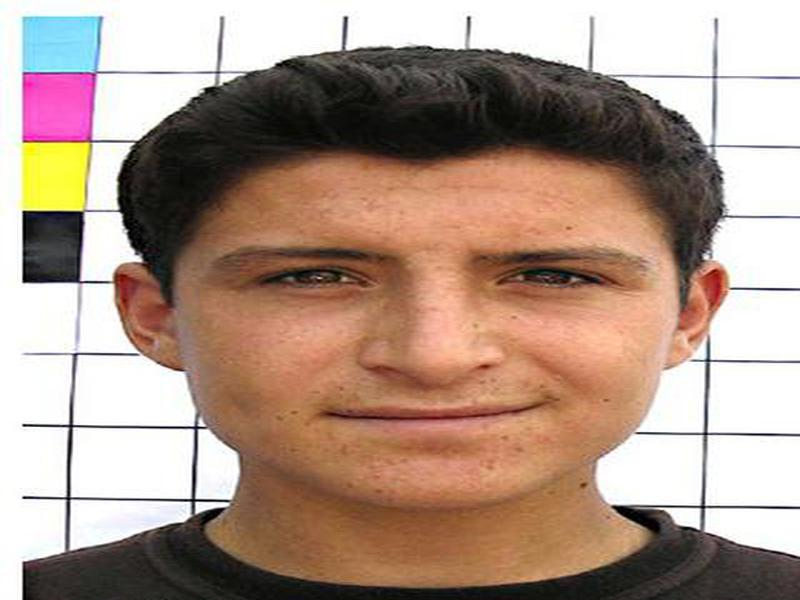without_mask: (178, 172, 674, 506)
